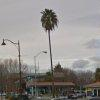Palm tree: (31, 4, 70, 72)
